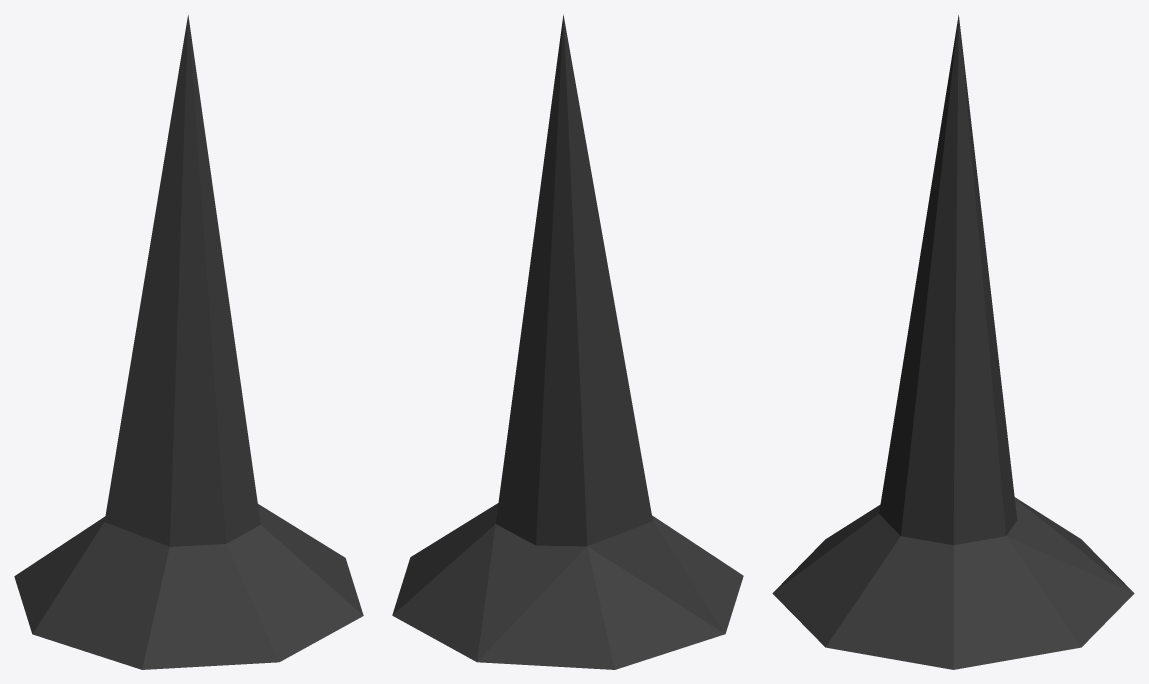
The model's file is Stal_2D_LOD.fbx.
The picture shows the model from 3 angles, left to right: view 1: azimuth 30°, elevation 25°; view 2: azimuth 150°, elevation 25°; view 3: azimuth 270°, elevation 25°; orthographic projection.
Parts seen in each view (by area): view 1: pCone36; view 2: pCone36; view 3: pCone36.
Part boxes in pixels (<box>): pCone36: <box>14,15,363,669</box>; pCone36: <box>392,14,743,669</box>; pCone36: <box>772,15,1134,669</box>.
Size of the model in its own units: 1.94 by 3.44 by 1.94.
